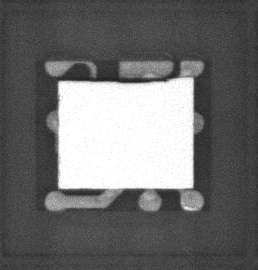DIE_BROKEN: (58, 78, 174, 84)
